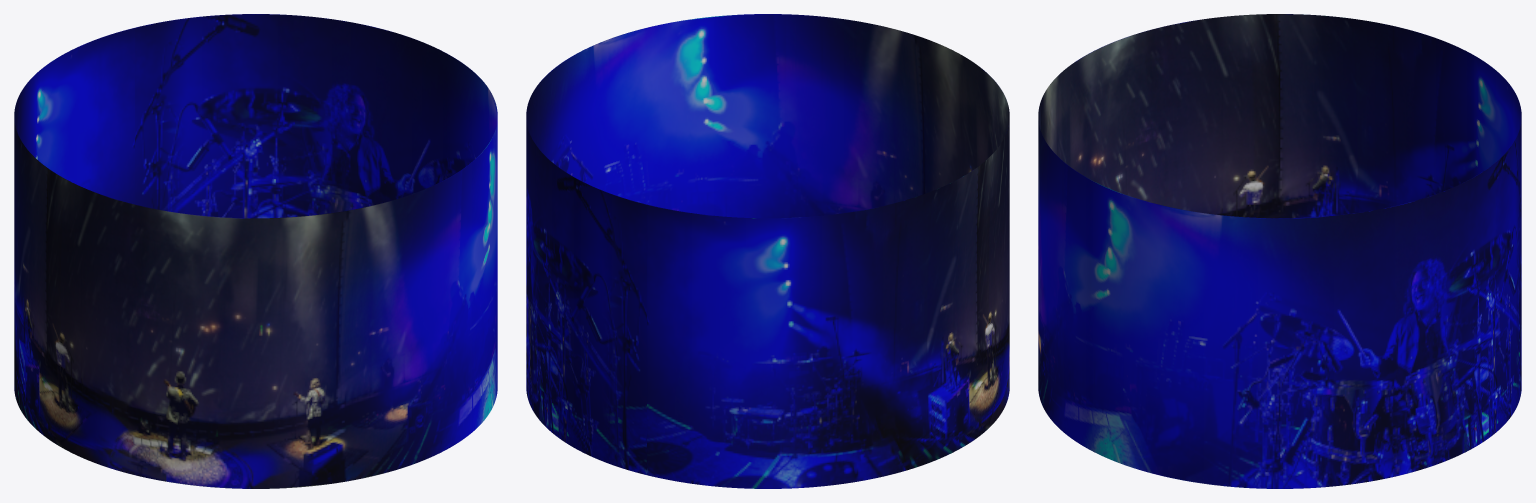
The model's file is stageScene.dae.
3 renders of one model, left to right at view 1: azimuth 30°, elevation 25°; view 2: azimuth 150°, elevation 25°; view 3: azimuth 270°, elevation 25°, orthographic.
Visible parts, largest first — view 1: pCylinder1; view 2: pCylinder1; view 3: pCylinder1.
Part boxes in pixels (x1=…): pCylinder1: x1=14, y1=14, x2=497, y2=488; pCylinder1: x1=526, y1=14, x2=1009, y2=488; pCylinder1: x1=1038, y1=14, x2=1521, y2=488.
Size of the model in its own units: 86.53 by 53.45 by 86.53.
Materials: 1 (1 with a texture image).
